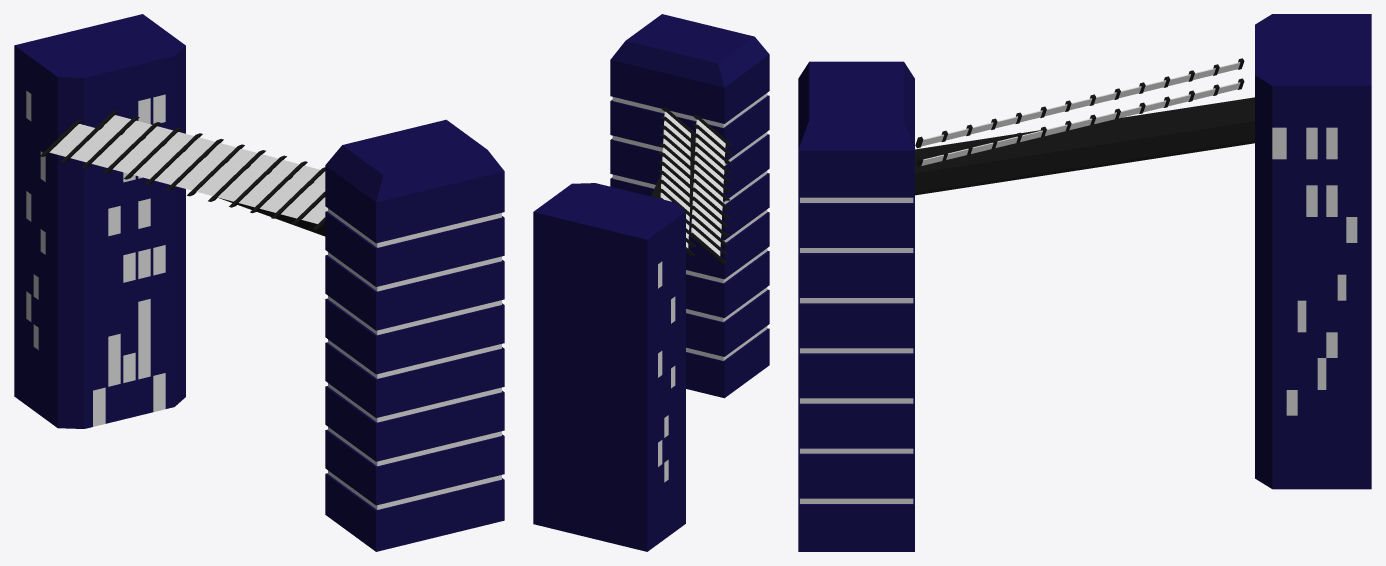
The model's file is Buliding4.fbx.
3 views of the same model, side by side, from view 1: azimuth 30°, elevation 25°; view 2: azimuth 150°, elevation 25°; view 3: azimuth 270°, elevation 25° (orthographic). The views are drawn at different scales.
Visible parts, largest first — view 1: Cube.010, Cube.005, Cube.022, Cube.024, Cube.021, Cube.023; view 2: Cube.005, Cube.010, Cube.021, Cube.022, Cube.023, Cube.024, Cube.015; view 3: Cube.010, Cube.005, Cube.015, Cube.022, Cube.024, Cube.021, Cube.023.
Boxes of the visible parts, bbox=[...] form: Cube.010: bbox=[325, 119, 504, 551]; Cube.005: bbox=[14, 14, 185, 428]; Cube.022: bbox=[49, 124, 327, 223]; Cube.024: bbox=[101, 115, 325, 189]; Cube.021: bbox=[40, 119, 325, 229]; Cube.023: bbox=[98, 111, 325, 182]; Cube.005: bbox=[533, 183, 685, 551]; Cube.010: bbox=[610, 14, 769, 398]; Cube.021: bbox=[687, 115, 732, 263]; Cube.022: bbox=[691, 119, 725, 255]; Cube.023: bbox=[657, 107, 695, 255]; Cube.024: bbox=[660, 111, 690, 248]; Cube.015: bbox=[651, 132, 695, 218]; Cube.010: bbox=[798, 61, 914, 551]; Cube.005: bbox=[1255, 14, 1371, 489]; Cube.015: bbox=[915, 97, 1254, 195]; Cube.022: bbox=[921, 62, 1240, 146]; Cube.024: bbox=[921, 82, 1240, 165]; Cube.021: bbox=[915, 58, 1244, 148]; Cube.023: bbox=[916, 78, 1244, 166].
Bounding box in the file's own units: 8123 × 10537 × 12882.
